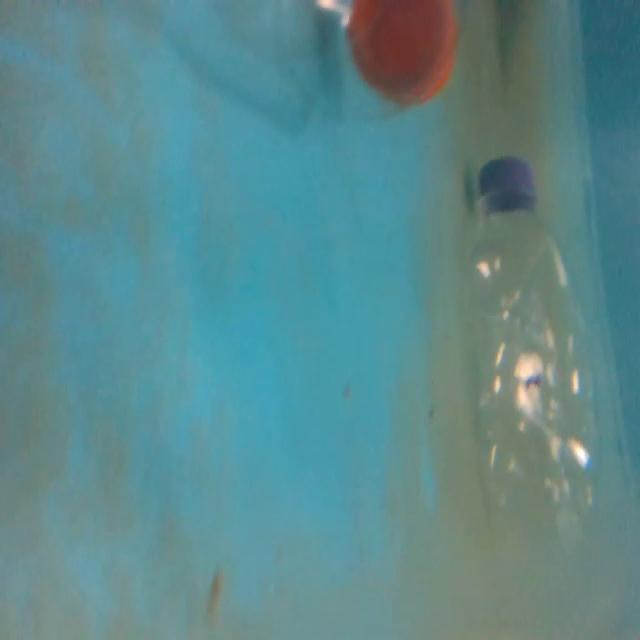plastic bottle: (469, 143, 607, 574)
